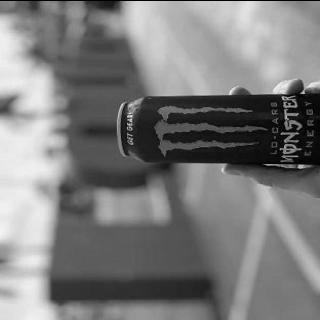alumunium_can: (116, 90, 319, 164)
